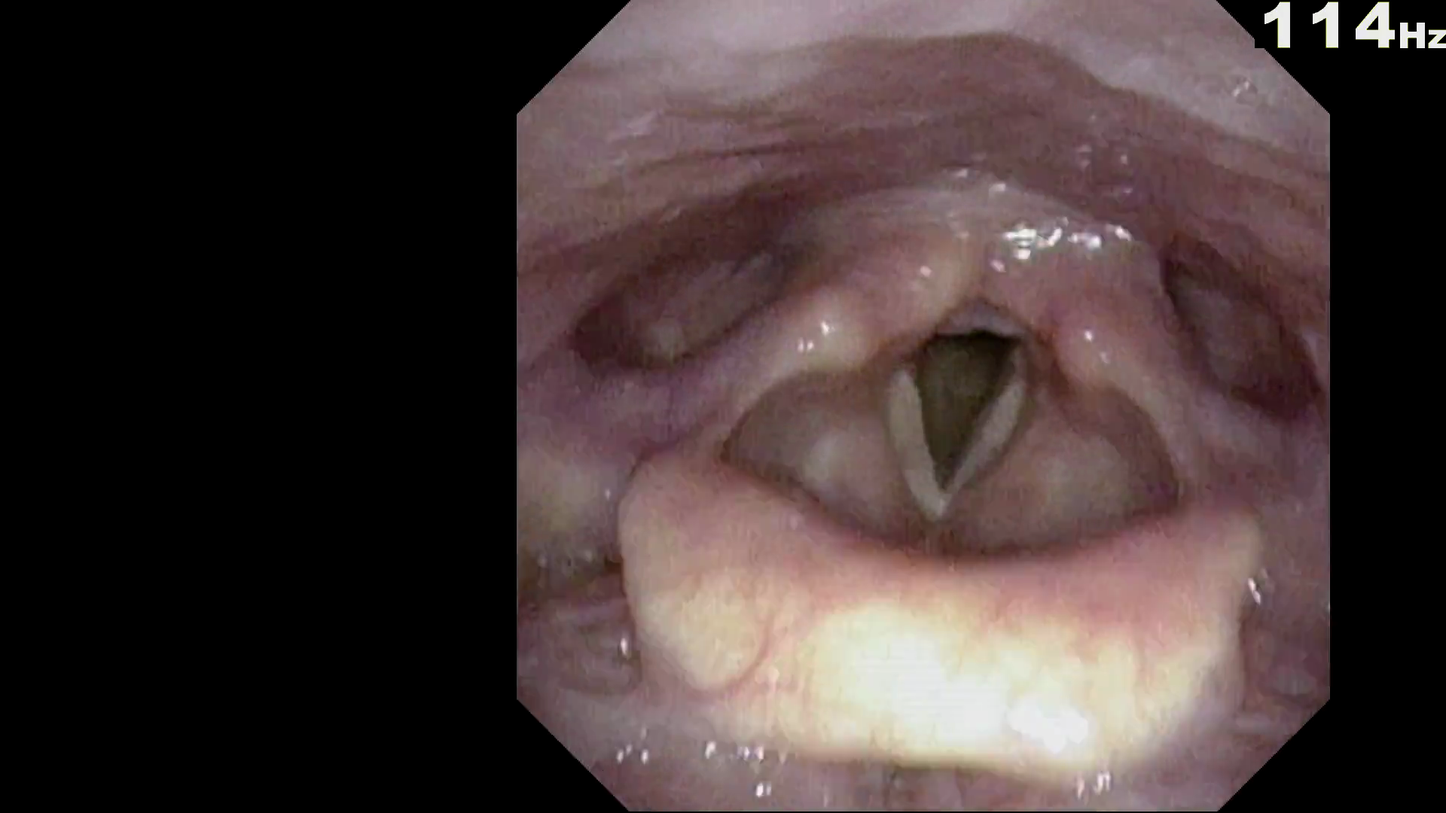epiglottis: (586, 445, 1276, 730)
trachea: (865, 324, 1043, 549)
